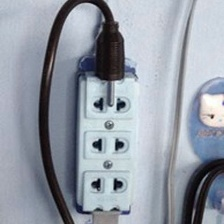three_eye_plug: (70, 64, 143, 216)
